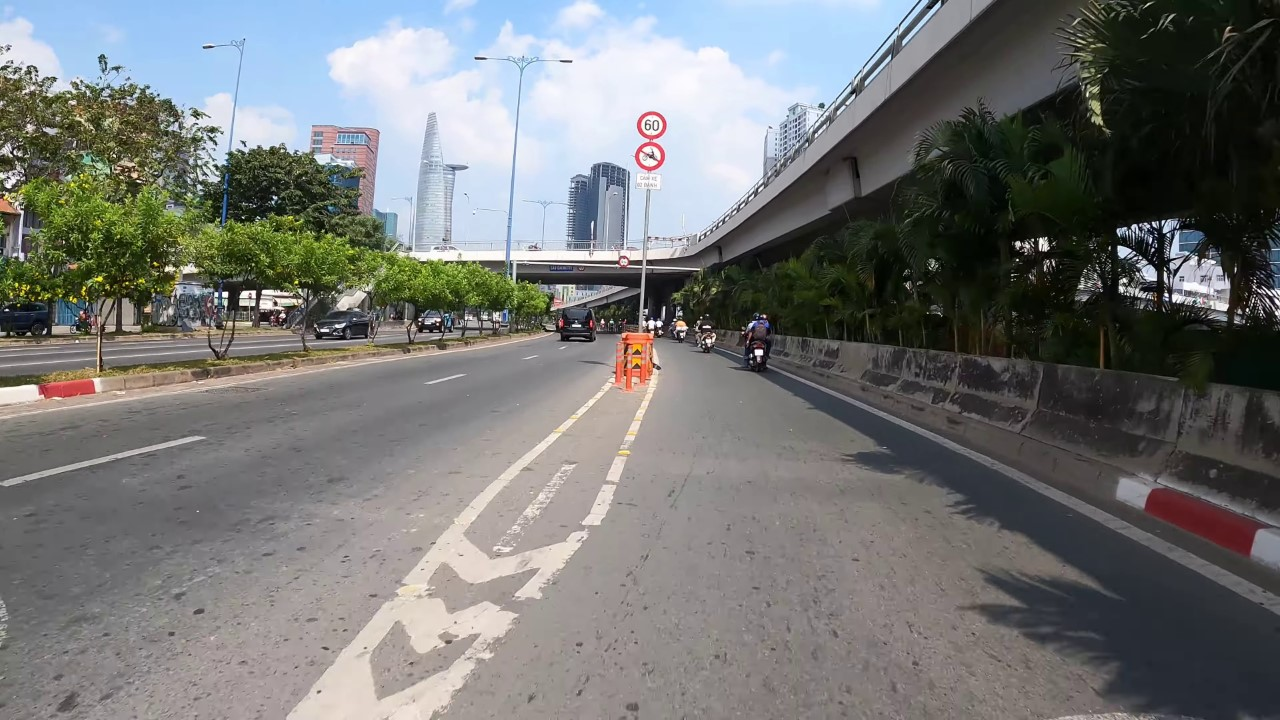gioi_han_60km: (634, 109, 670, 141)
